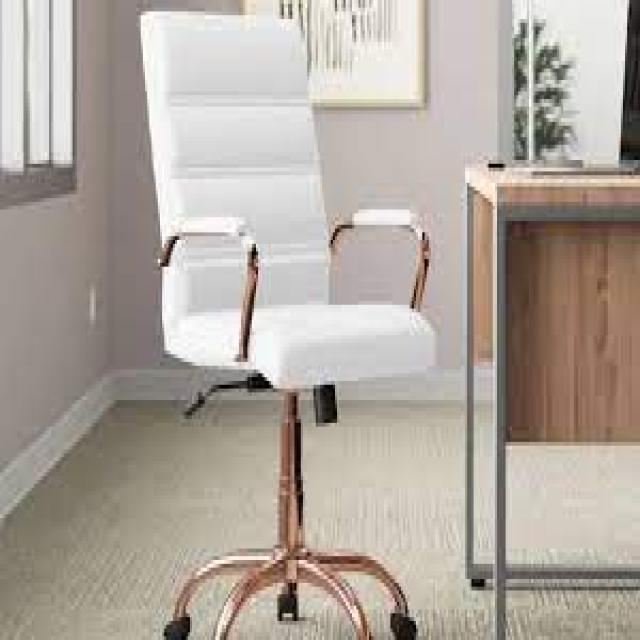chair: (92, 0, 453, 640)
